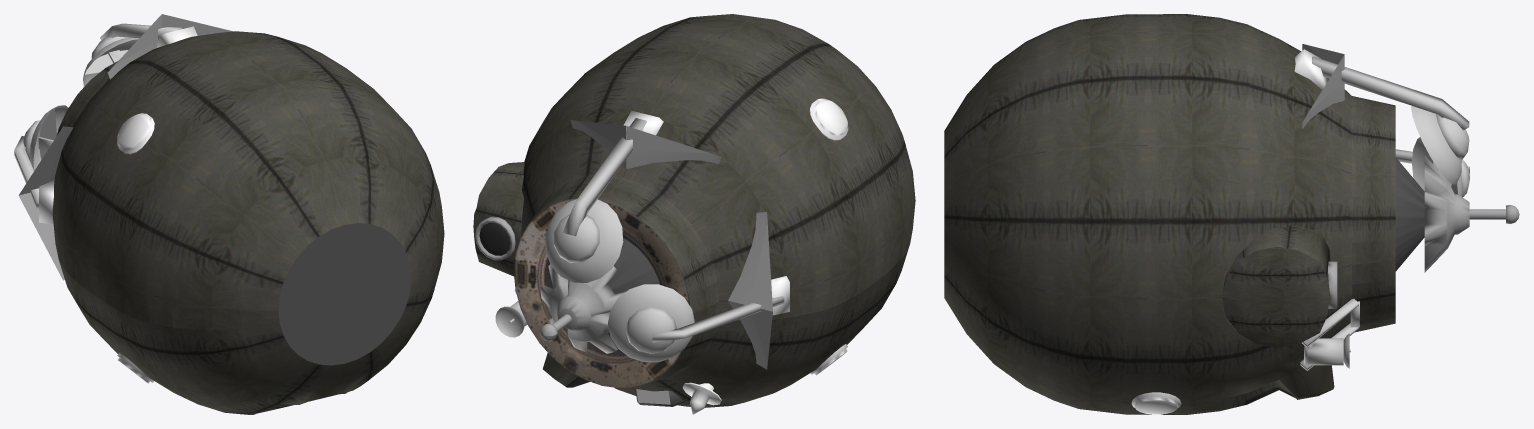
The model's file is tma-orbital.obj.
3 views of the same model, side by side, from view 1: azimuth 30°, elevation 25°; view 2: azimuth 150°, elevation 25°; view 3: azimuth 270°, elevation 25° (orthographic). The views are drawn at different scales.
Visible parts, largest first — view 1: group9, group13, group2, group1, group14, group15; view 2: group9, group2, group10, group15, group14, group1, group13, group26, group5; view 3: group9, group2, group15, group13, group1, group14, group26, group27.
Part boxes in pixels (left/top/right/bottom): group9: left=52, top=31, right=444, bottom=414; group13: left=278, top=223, right=411, bottom=365; group2: left=18, top=14, right=233, bottom=280; group1: left=39, top=26, right=197, bottom=383; group14: left=14, top=105, right=68, bottom=208; group15: left=83, top=23, right=181, bottom=86; group9: left=473, top=14, right=915, bottom=407; group2: left=475, top=120, right=772, bottom=369; group10: left=513, top=198, right=689, bottom=388; group15: left=545, top=118, right=646, bottom=282; group14: left=608, top=284, right=784, bottom=362; group1: left=623, top=98, right=848, bottom=414; group13: left=551, top=238, right=685, bottom=406; group26: left=495, top=301, right=527, bottom=337; group5: left=479, top=222, right=510, bottom=255; group9: left=944, top=14, right=1395, bottom=414; group2: left=1302, top=44, right=1519, bottom=308; group15: left=1312, top=56, right=1469, bottom=184; group13: left=1395, top=157, right=1424, bottom=271; group1: left=1131, top=49, right=1327, bottom=414; group14: left=1395, top=137, right=1469, bottom=197; group26: left=1304, top=333, right=1350, bottom=368; group27: left=1300, top=298, right=1359, bottom=370.
Bounding box in the file's own units: 2.28 × 2.27 × 3.25.
